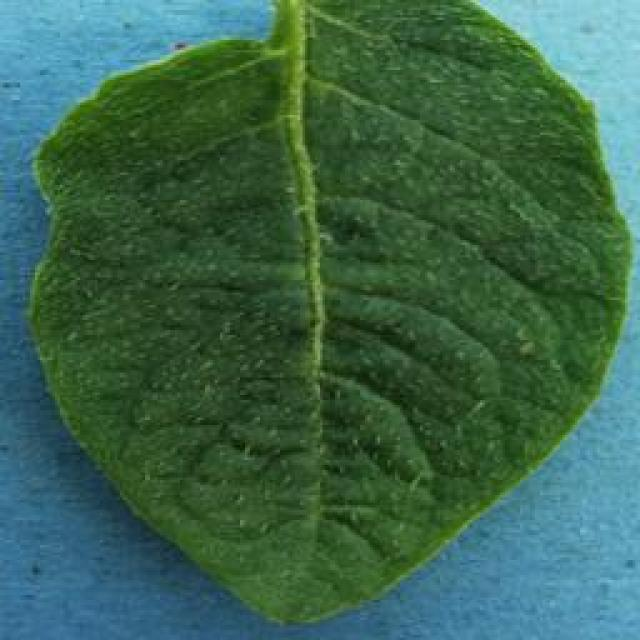Potato_Healthy: (28, 4, 622, 623)
